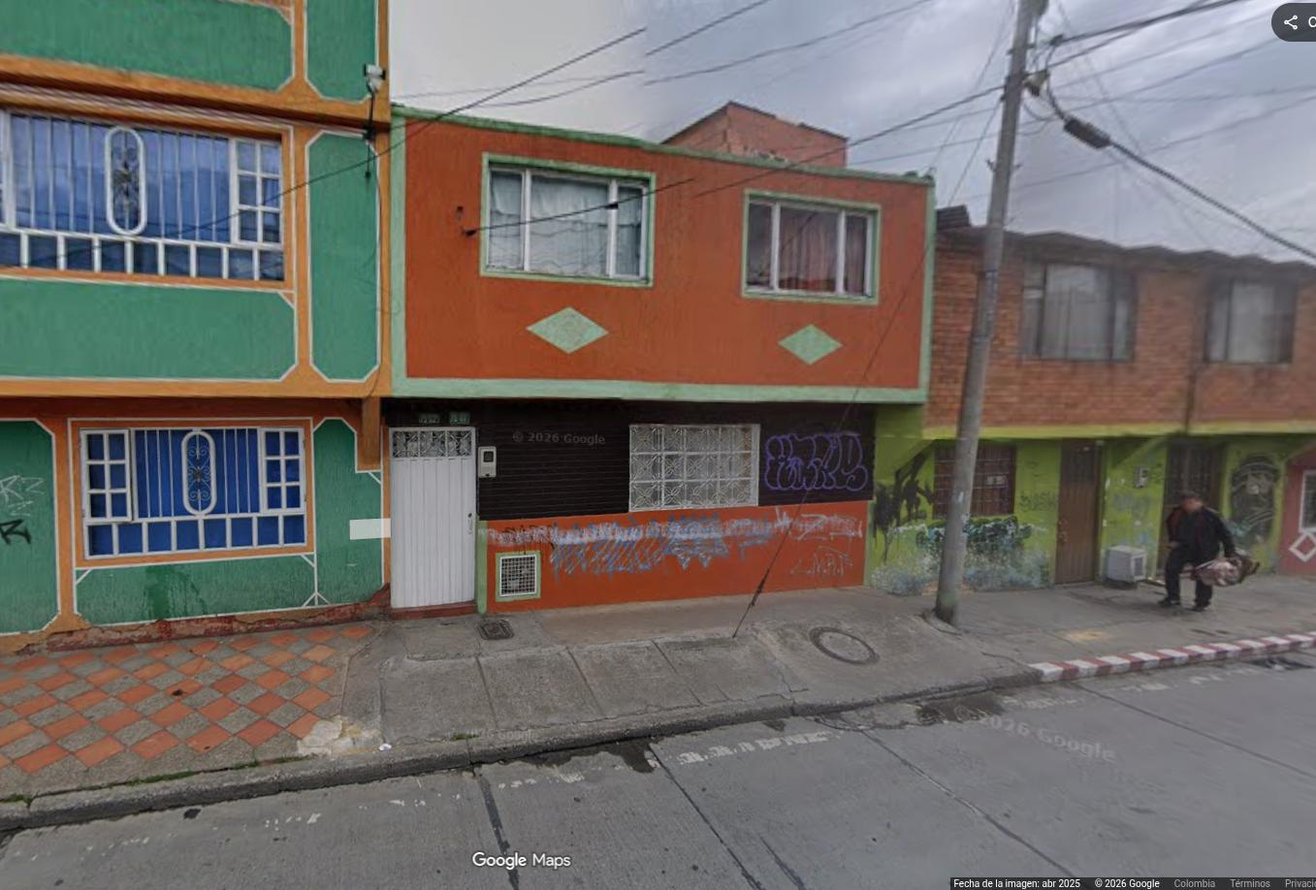casa: (384, 105, 934, 612)
poste: (934, 0, 1041, 624)
